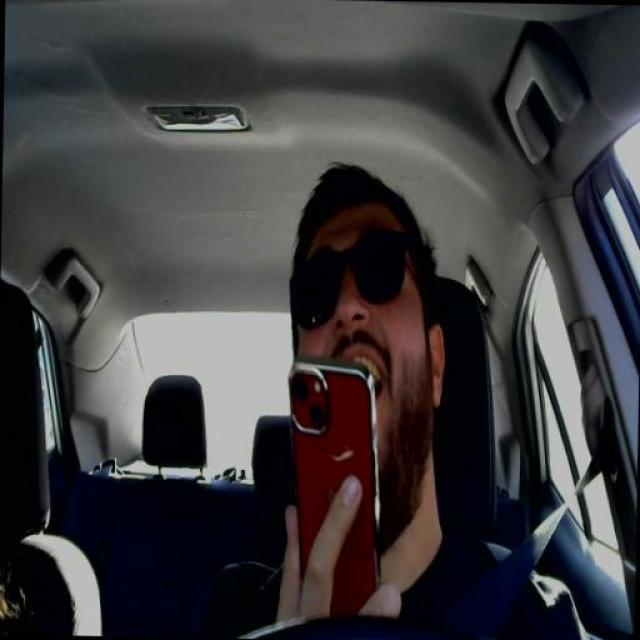phone: (287, 359, 380, 608)
